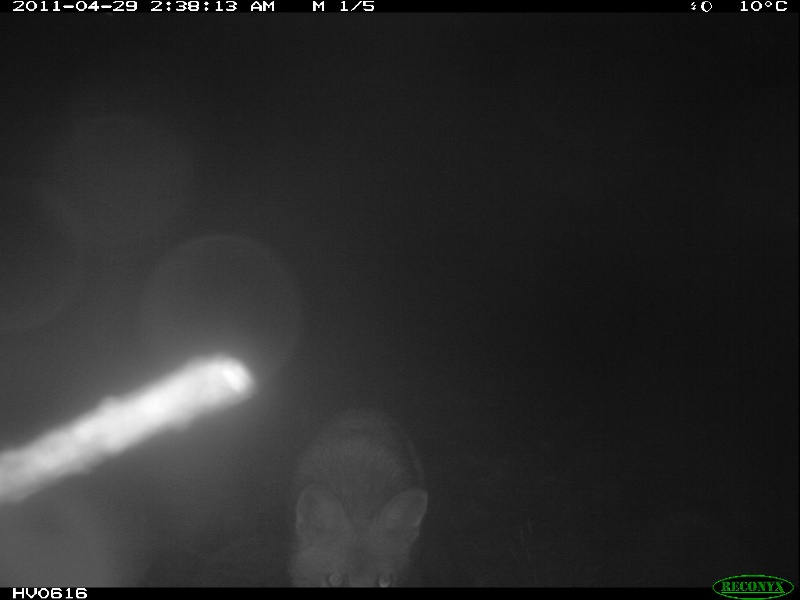fox: (282, 394, 435, 587)
